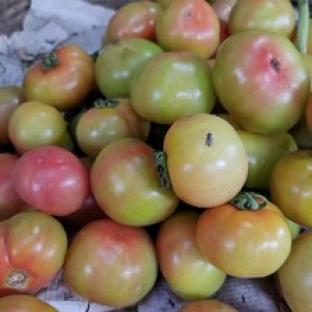Tomato: (212, 30, 310, 133), (63, 219, 157, 307), (197, 191, 292, 278), (163, 113, 247, 207), (91, 138, 179, 227), (156, 209, 227, 299), (130, 52, 215, 123), (0, 211, 66, 296), (13, 147, 90, 215), (23, 44, 94, 111), (76, 98, 150, 158), (95, 38, 162, 97), (237, 130, 298, 190), (9, 101, 72, 153), (271, 150, 311, 227), (276, 230, 311, 311), (59, 189, 105, 228), (0, 154, 26, 221), (0, 85, 23, 144), (0, 294, 57, 311), (179, 299, 237, 311)
